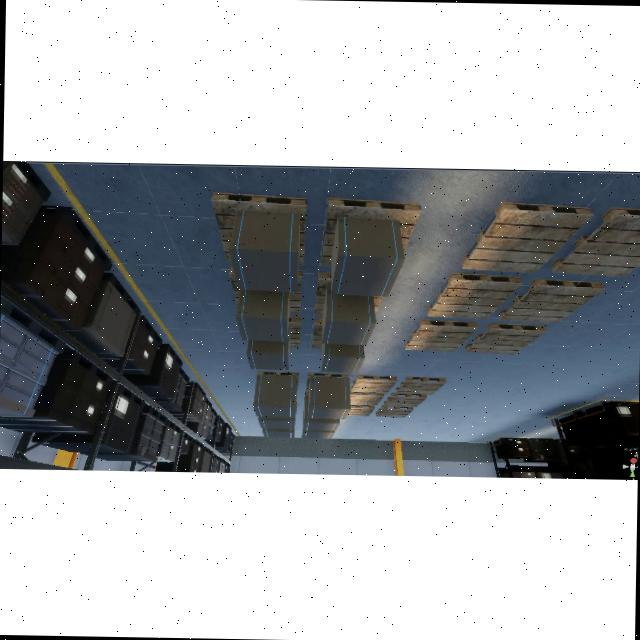wooden_pallet: (459, 200, 594, 274), (210, 190, 307, 267), (320, 198, 420, 267), (547, 206, 640, 278), (497, 279, 604, 323), (426, 274, 522, 320), (465, 324, 546, 355), (404, 320, 478, 352), (395, 375, 446, 395), (304, 372, 348, 395), (256, 370, 299, 391), (350, 375, 397, 393), (383, 392, 427, 408), (349, 391, 384, 406), (375, 405, 413, 417), (346, 404, 375, 416)
